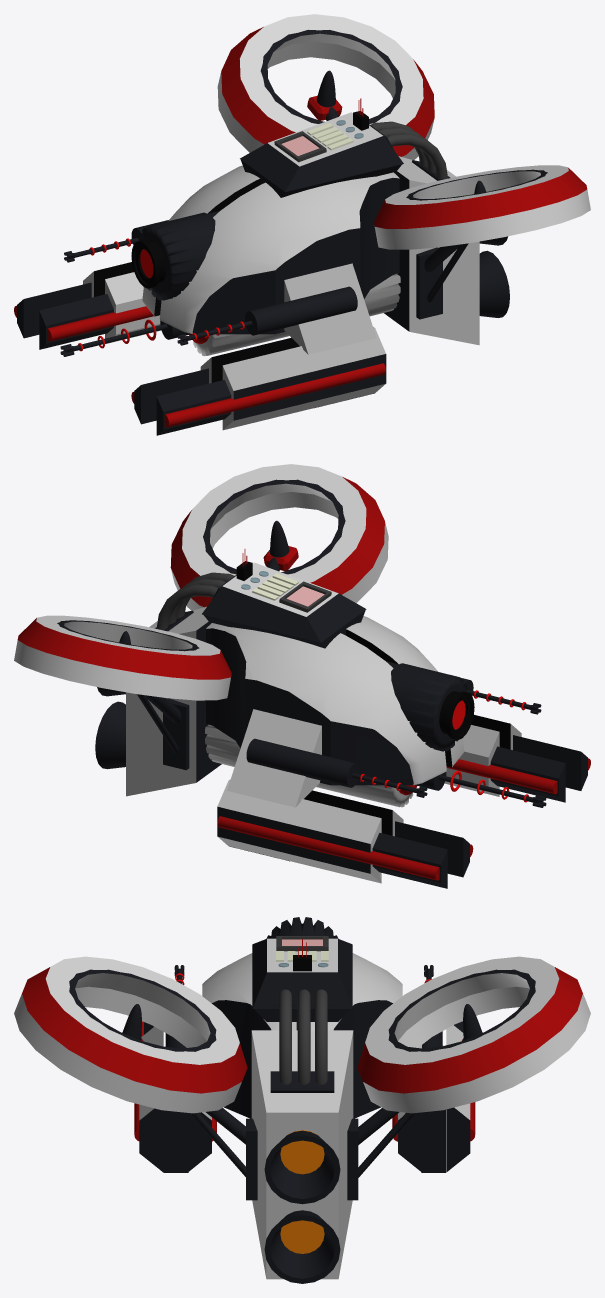
The model's file is fixedTK_art_izzy_enemy_lvl_03.fbx.
3 renders of one model, top to bottom at view 1: azimuth 30°, elevation 25°; view 2: azimuth 150°, elevation 25°; view 3: azimuth 270°, elevation 25°, orthographic. The views are drawn at different scales.
Visible parts, largest first — view 1: polySurface17, polySurface21, polySurface26, polySurface25, pCube26, polySurface22, pCube29, polySurface28, pPipe13, pCylinder21, polySurface18, pCylinder7 (+10 smaller); view 2: polySurface18, polySurface22, polySurface25, polySurface26, pCube26, polySurface21, pCube29, polySurface28, pPipe14, pCylinder20, polySurface17, pCylinder7 (+9 smaller); view 3: polySurface25, polySurface26, pCube26, polySurface22, polySurface21, pCube29, polySurface17, polySurface18, polySurface24, pPipe7, pPipe8, pTorus3 (+11 smaller).
Boxes of the visible parts, x1,y1,x2,y2 form: polySurface17: [159, 172, 399, 334]; polySurface21: [134, 263, 386, 435]; polySurface26: [217, 14, 434, 160]; polySurface25: [374, 165, 590, 249]; pCube26: [384, 156, 479, 345]; polySurface22: [17, 262, 160, 349]; pCube29: [240, 112, 403, 191]; polySurface28: [139, 210, 219, 300]; pPipe13: [177, 286, 357, 345]; pCylinder21: [164, 363, 385, 427]; polySurface18: [142, 165, 260, 316]; pCylinder7: [193, 273, 400, 356]; polySurface18: [206, 623, 446, 785]; polySurface22: [217, 709, 469, 888]; polySurface25: [170, 464, 388, 610]; polySurface26: [14, 615, 231, 700]; pCube26: [126, 606, 221, 796]; polySurface21: [444, 715, 587, 802]; pCube29: [202, 562, 366, 642]; polySurface28: [386, 661, 467, 751]; pPipe14: [246, 738, 427, 797]; pCylinder20: [217, 816, 439, 880]; polySurface17: [346, 616, 463, 767]; pCylinder7: [205, 724, 413, 807]; polySurface25: [14, 956, 247, 1113]; polySurface26: [357, 956, 590, 1113]; pCube26: [251, 1030, 353, 1279]; polySurface22: [398, 1021, 470, 1172]; polySurface21: [139, 1022, 211, 1172]; pCube29: [252, 938, 352, 1008]; polySurface17: [202, 953, 296, 1118]; polySurface18: [310, 953, 402, 1118]; polySurface24: [122, 1004, 482, 1177]; pPipe7: [264, 1210, 340, 1283]; pPipe8: [264, 1130, 340, 1204]; pTorus3: [297, 989, 310, 1084].
Bounding box in the file's own units: 8.71 × 4.95 × 9.07.
